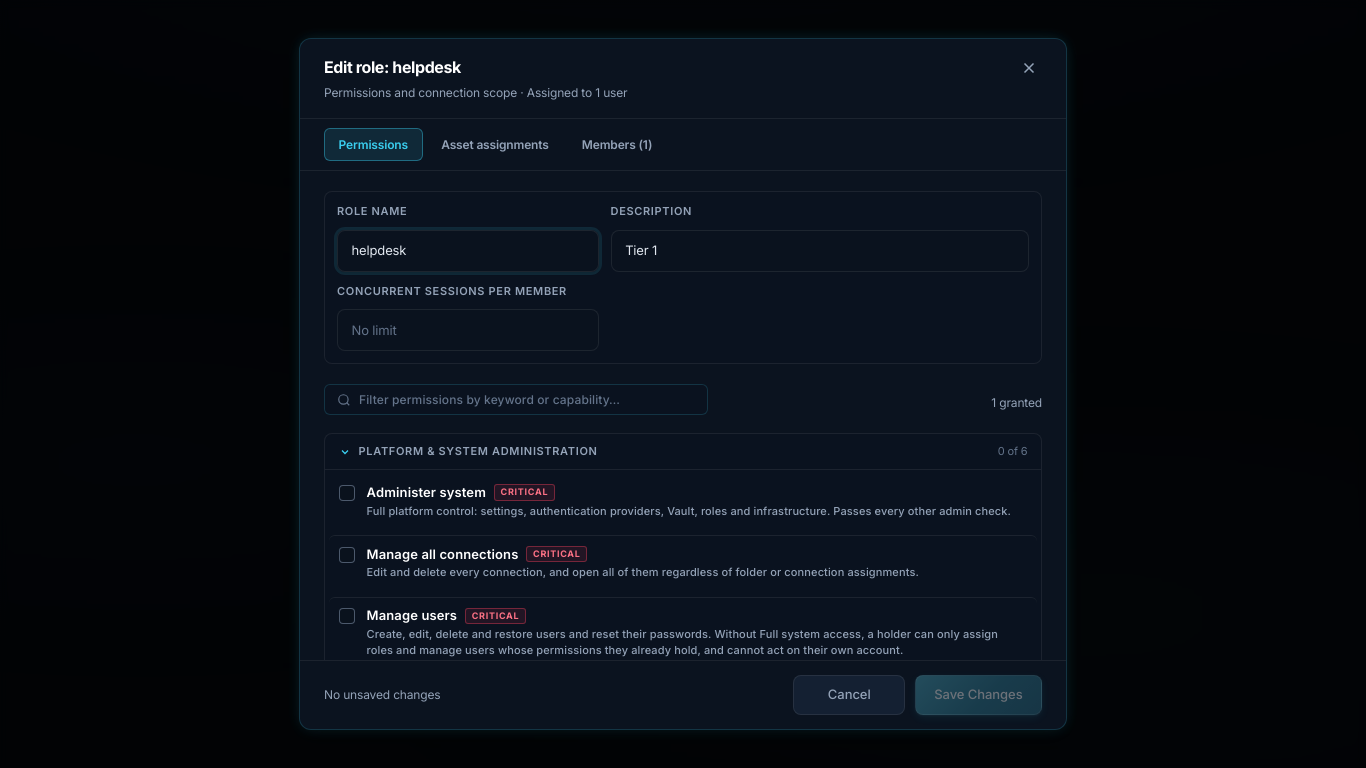
Test: EditRoleModal › lists the users who hold the role
Click the tab "Members (1)".
click(617, 145)  # box [567,128,667,161]
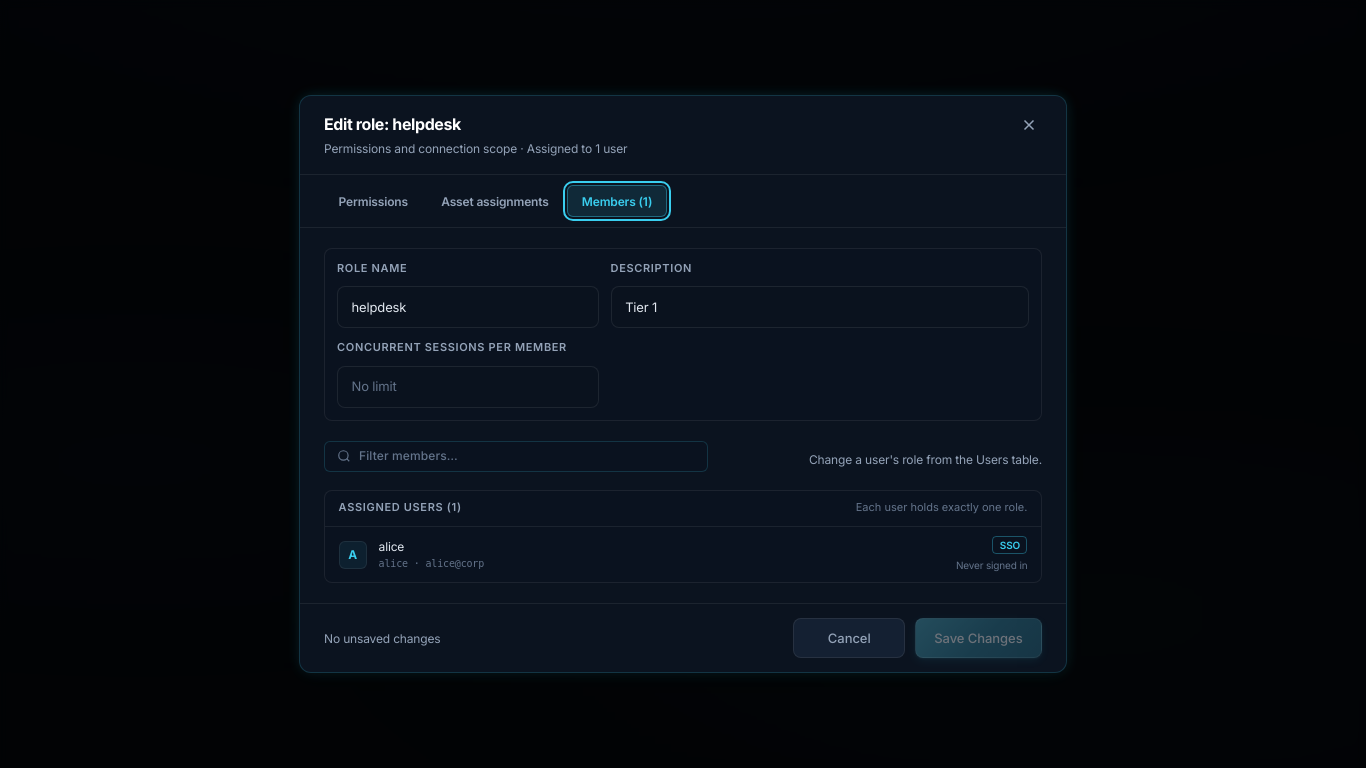
expect the text "alice" is shown: met, box [379,539,404,554]
expect the text "SSO" is shown: met, box [992,536,1027,554]
